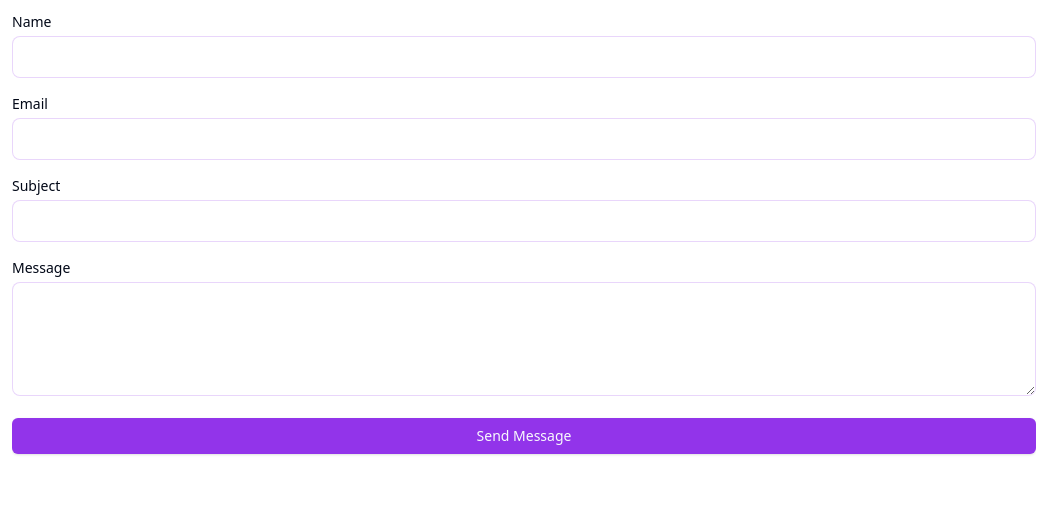
Test: ContactForm Component › Error Handling › handles network errors
// Fill and submit form
Type "John" into the field with test id "name-input" at (524, 57), box [12, 36, 1036, 78]
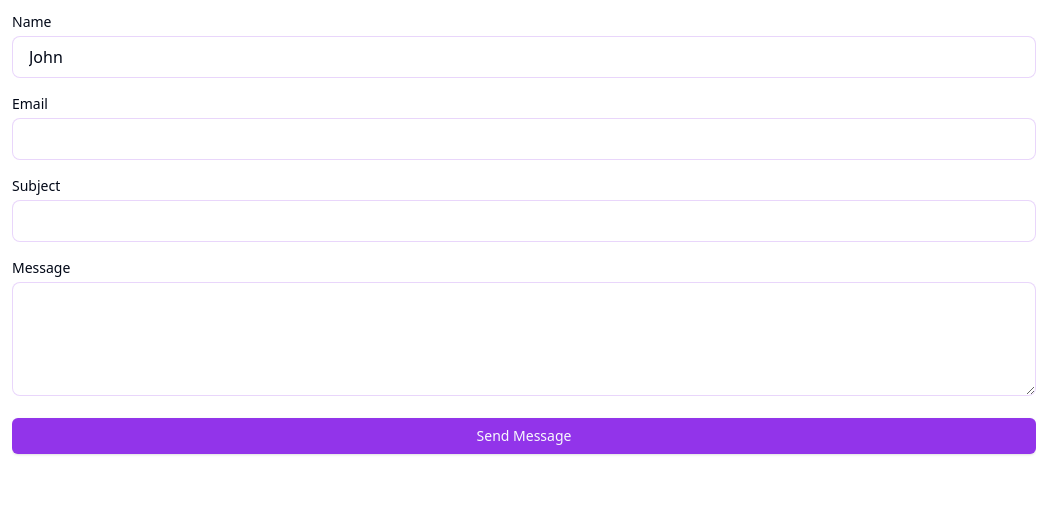
Type "john@example.com" into the field with test id "email-input" at (524, 139), box [12, 118, 1036, 160]
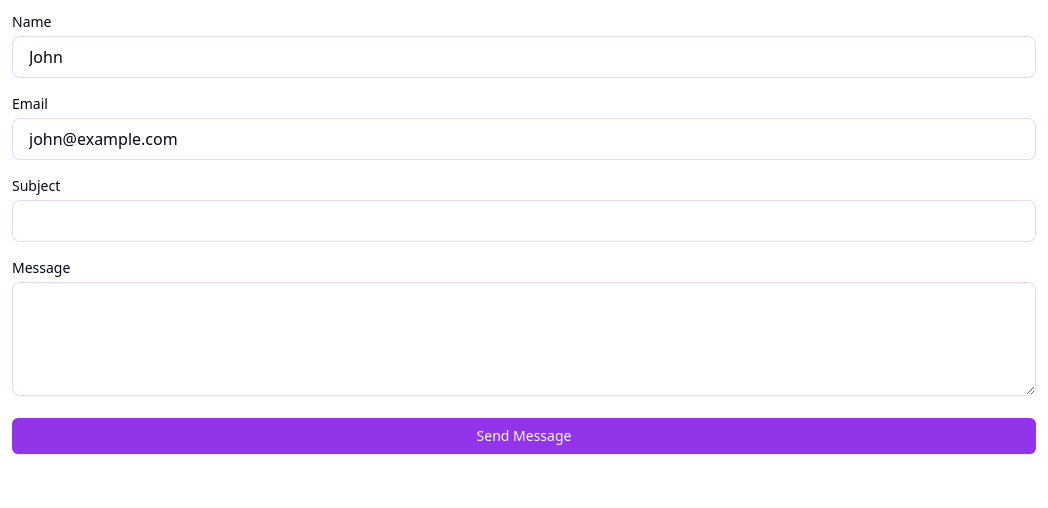
Type "Test" into the field with test id "subject-input" at (524, 221), box [12, 200, 1036, 242]
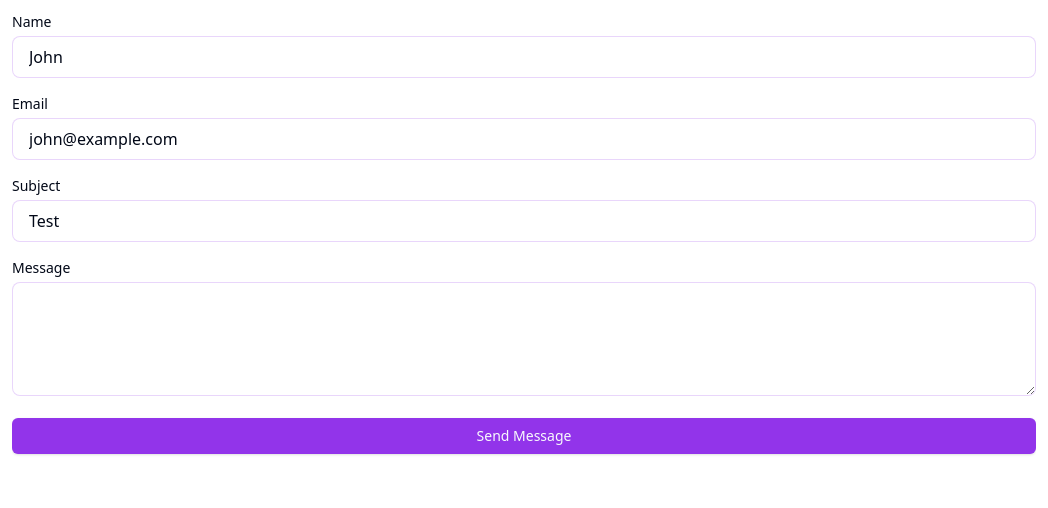
Type "Message" into the text box with test id "message-input" at (524, 339), box [12, 282, 1036, 396]
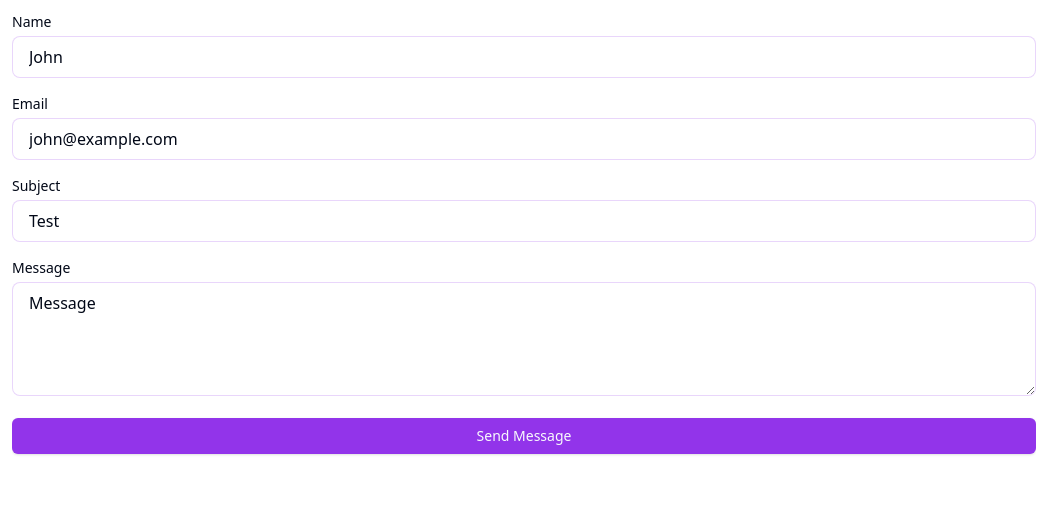
Click the button with test id "submit-button" at (524, 436), box [12, 418, 1036, 454]
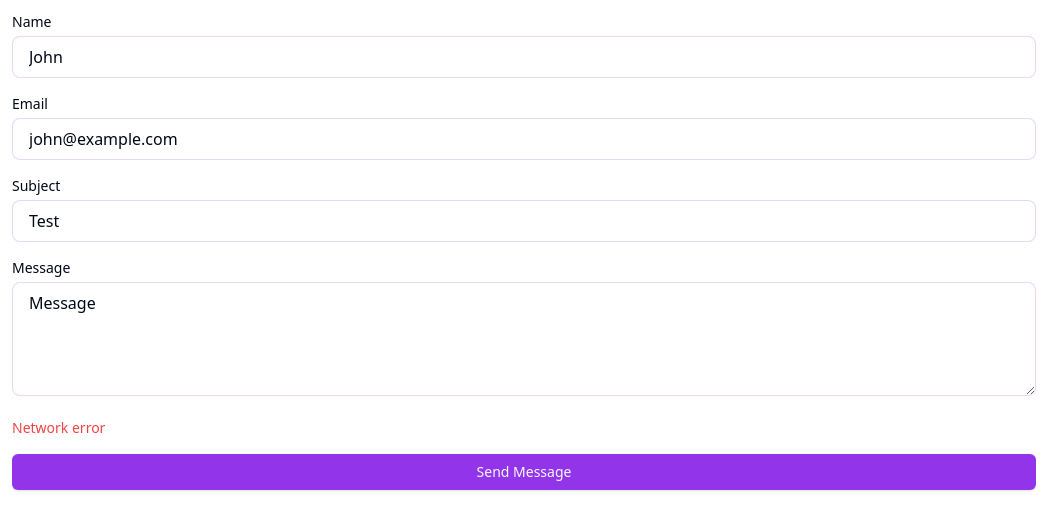
expect the text with test id "error-message" reads "Network error": met, box [12, 418, 105, 437]
